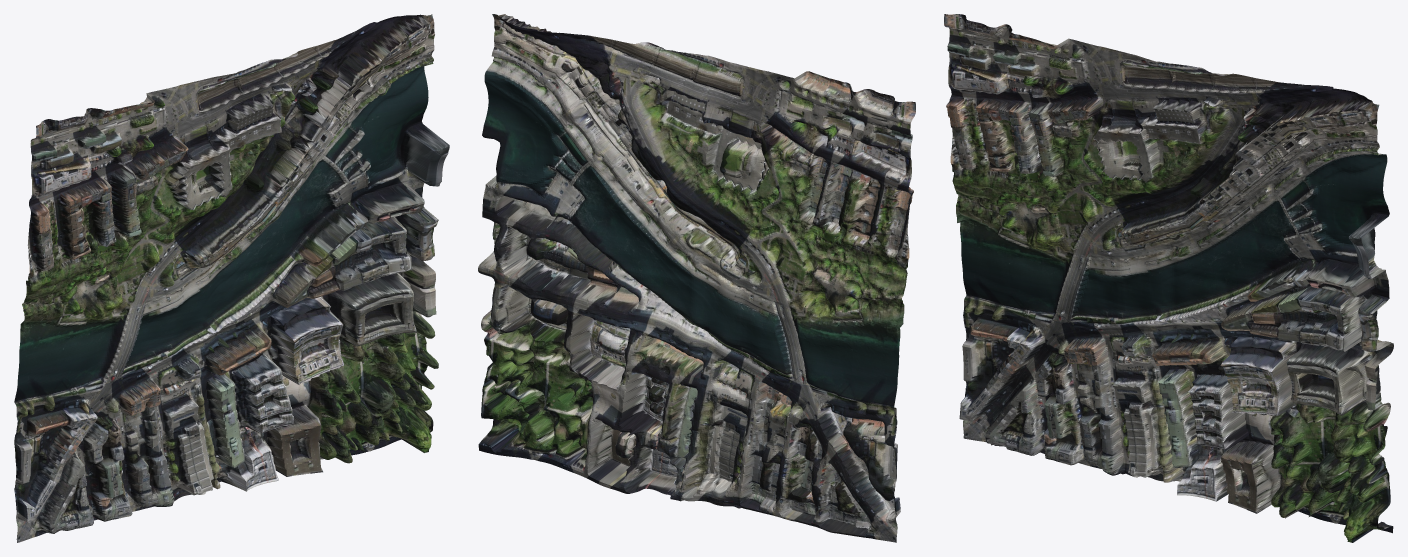
3 renders of one model, left to right at view 1: azimuth 30°, elevation 25°; view 2: azimuth 150°, elevation 25°; view 3: azimuth 330°, elevation 25°, orthographic. The views are drawn at different scales.
Visible parts, largest first — view 1: ayama_surface; view 2: ayama_surface; view 3: ayama_surface.
Part boxes in pixels (box(x1,y1,x2,y2)): ayama_surface: box(14, 14, 449, 542); ayama_surface: box(478, 14, 915, 542); ayama_surface: box(944, 14, 1393, 542).
Bounding box in the file's own units: 510 × 510 × 90.65.
Materials: 1 (1 with a texture image).
